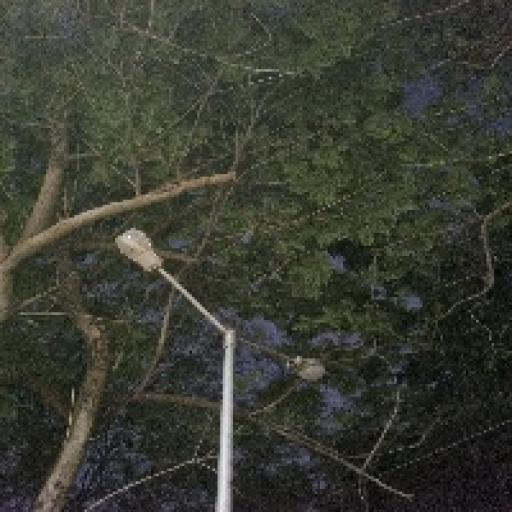Not Working: (104, 221, 183, 288), (279, 346, 338, 392)
